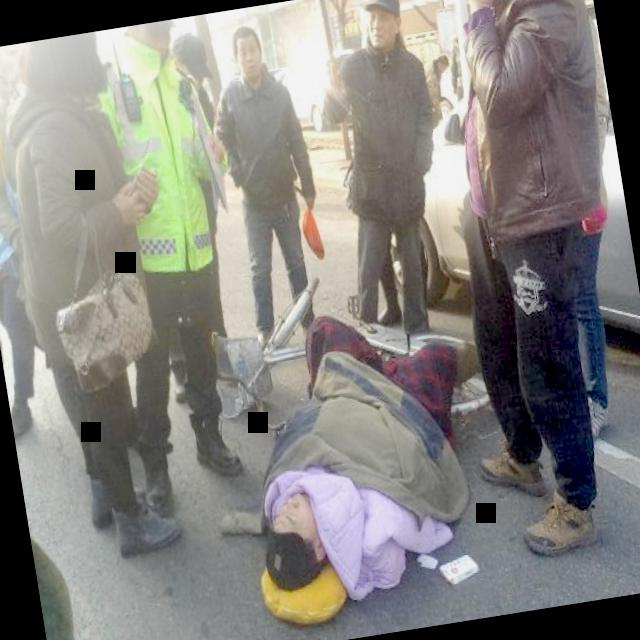Fall-Detected: (191, 270, 539, 640)
